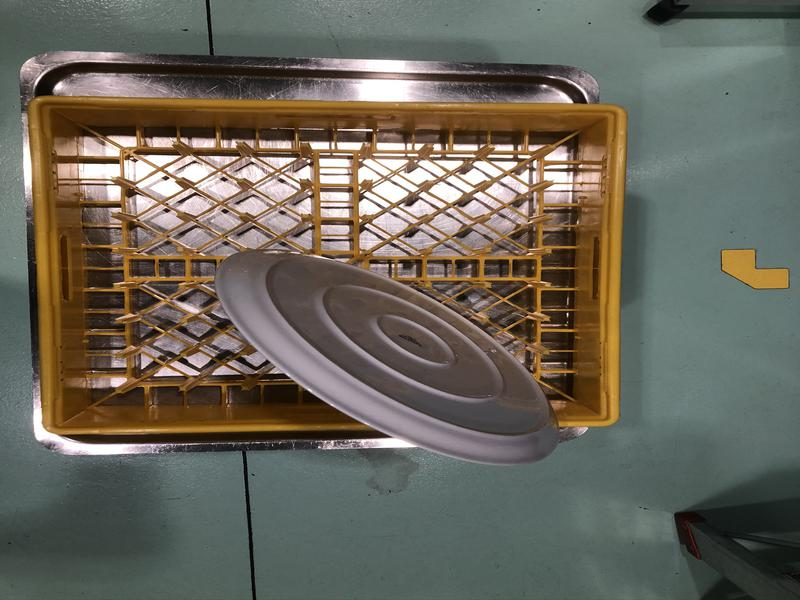Inclined_dish: (214, 248, 558, 466)
